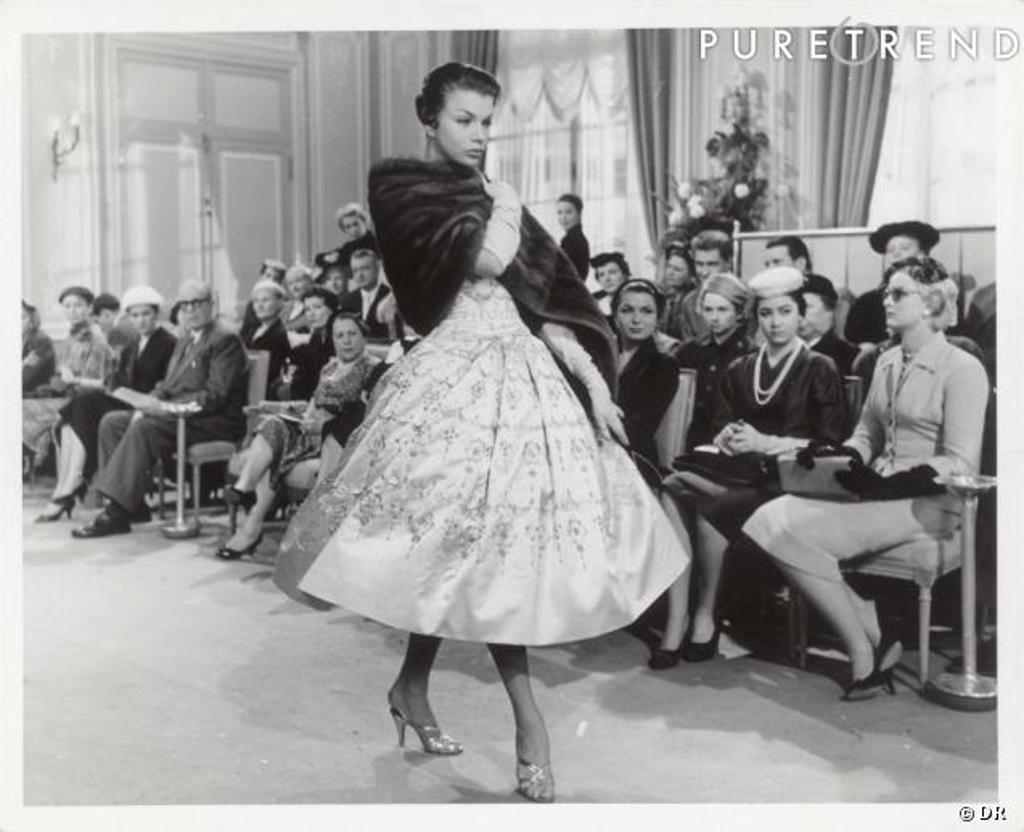face: (439, 91, 493, 167), (882, 277, 924, 327), (758, 297, 798, 343), (618, 292, 656, 340), (701, 292, 736, 333), (882, 239, 919, 276), (793, 292, 822, 336), (763, 250, 796, 286), (331, 321, 362, 359), (694, 250, 724, 288), (178, 291, 209, 327), (304, 297, 327, 329), (351, 257, 375, 286), (665, 254, 688, 284), (61, 296, 86, 323), (128, 308, 155, 333), (598, 264, 622, 291), (253, 292, 274, 317), (325, 270, 345, 294), (342, 218, 364, 238), (556, 204, 574, 228), (286, 276, 307, 296), (262, 268, 281, 290), (22, 308, 32, 335)
